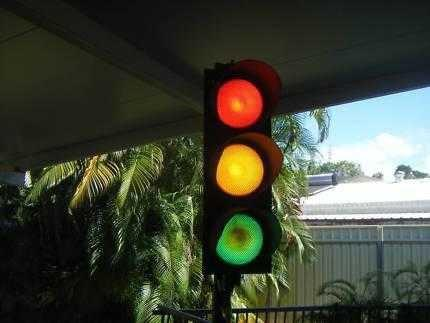green: (214, 208, 272, 270)
red: (213, 67, 263, 131)
